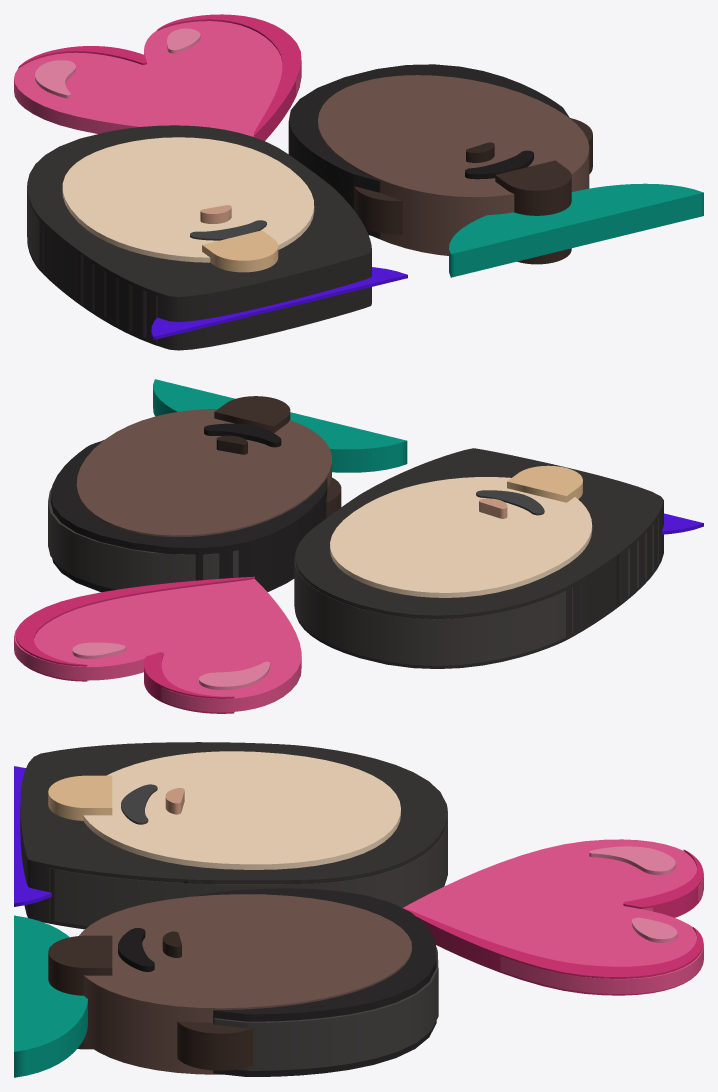
File: emoji_u1f469_1f3fb_200d_2764_200d_1f468_1f3ff.glb
3 views of the same model, one above another, from view 1: azimuth 30°, elevation 25°; view 2: azimuth 150°, elevation 25°; view 3: azimuth 270°, elevation 25° (orthographic). The views are drawn at different scales.
Parts seen in each view (by area): view 1: emoji_u1f469_1f3fb_200d_2764_200d_1f468_1f3ff; view 2: emoji_u1f469_1f3fb_200d_2764_200d_1f468_1f3ff; view 3: emoji_u1f469_1f3fb_200d_2764_200d_1f468_1f3ff.
Part boxes in pixels (<box>): emoji_u1f469_1f3fb_200d_2764_200d_1f468_1f3ff: <box>14,14,703,350</box>; emoji_u1f469_1f3fb_200d_2764_200d_1f468_1f3ff: <box>14,379,703,713</box>; emoji_u1f469_1f3fb_200d_2764_200d_1f468_1f3ff: <box>14,742,703,1077</box>.
Size of the model in its own units: 0.0345 by 0.005 by 0.0338.
